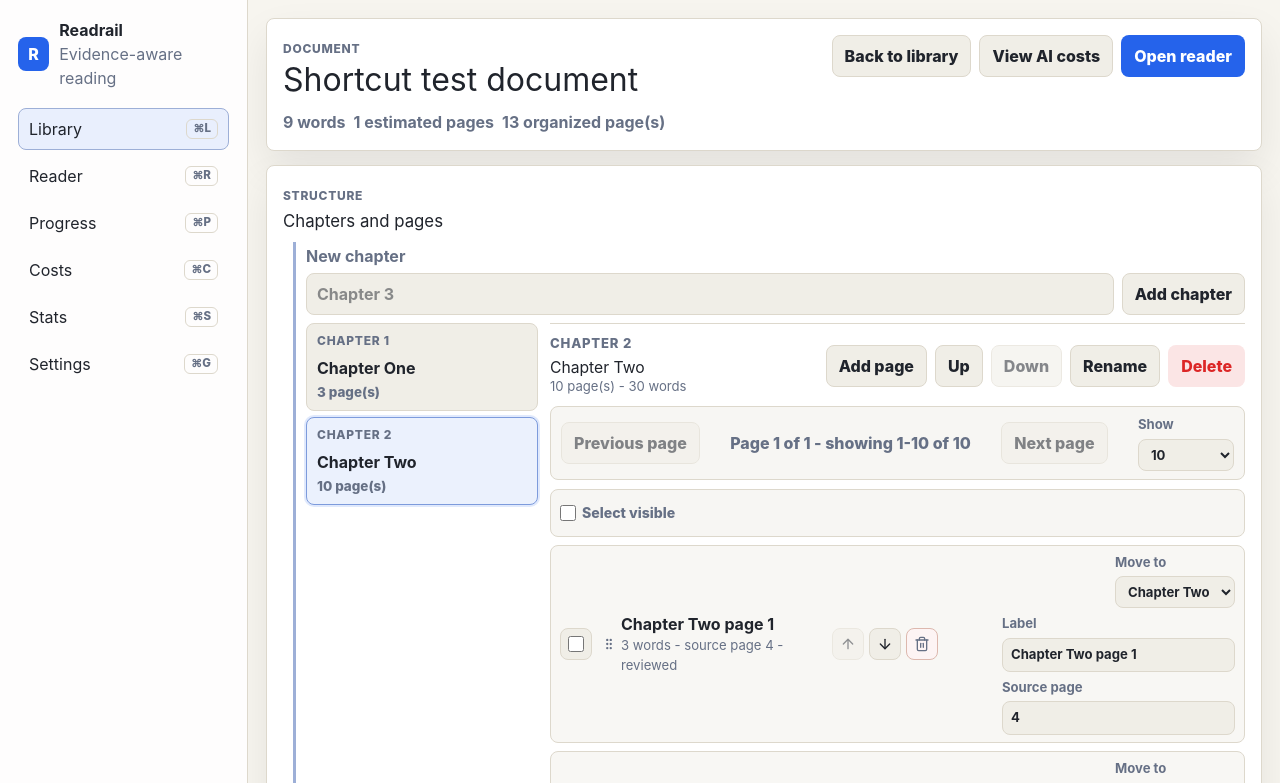
Test: app section shortcuts › deep-links document detail to selected chapters and paginated pages
Expected: the heading "Shortcut test document" is shown, [283, 62, 638, 98]
Expected: the text "Chapter Two page 1" is shown, [621, 614, 774, 634]
Click the button "Chapter 1 Chapter One 3 page(s)". click: (422, 367)
box: [306, 323, 538, 411]
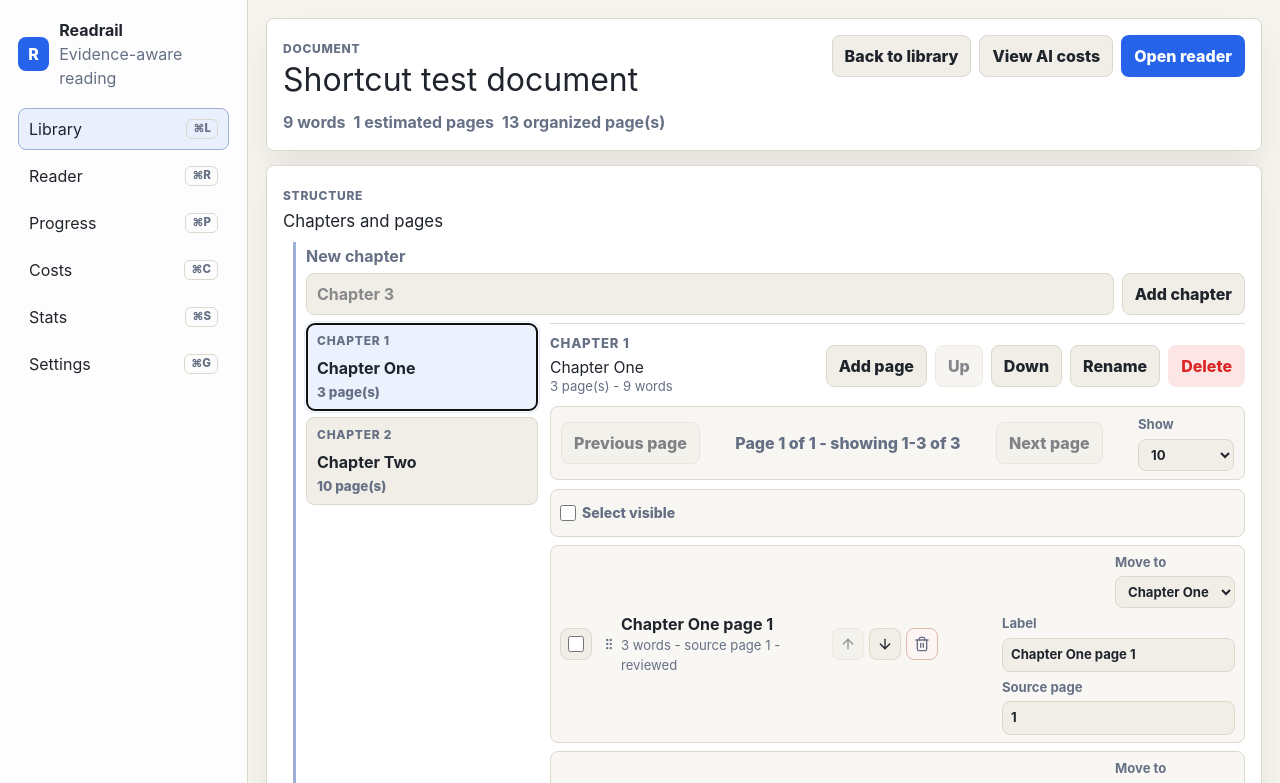
Now the text "Chapter One page 1" is shown, box [621, 614, 773, 634]
Now the field named "Label for page 1" is shown, box [1002, 638, 1235, 672]
